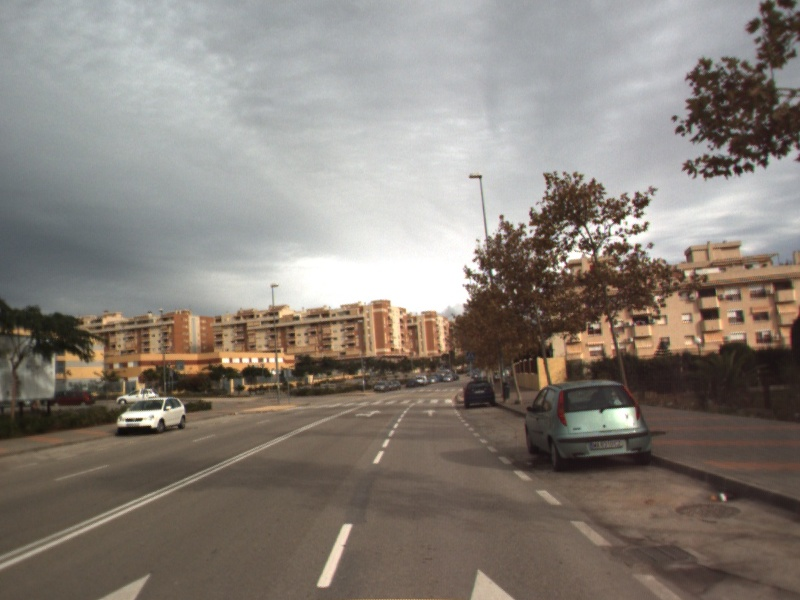STRAIGHT: (419, 407, 440, 418)
STRAIGHT_LEFT: (352, 408, 384, 419)
